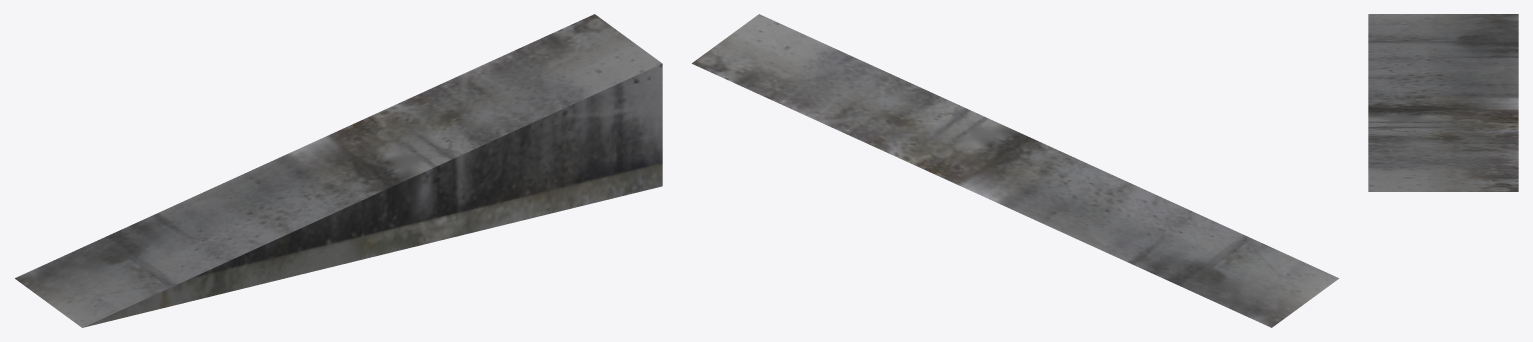
File: tunel_lodni_zed_0_z.glb
3 views of the same model, side by side, from view 1: azimuth 30°, elevation 25°; view 2: azimuth 150°, elevation 25°; view 3: azimuth 270°, elevation 25° (orthographic). The views are drawn at different scales.
Visible parts, largest first — view 1: tunel_lodni_zed_0_z; view 2: tunel_lodni_zed_0_z; view 3: tunel_lodni_zed_0_z.
Boxes of the visible parts, box(x1,y1,x2,y2) form: tunel_lodni_zed_0_z: box(15, 14, 662, 327); tunel_lodni_zed_0_z: box(692, 14, 1338, 327); tunel_lodni_zed_0_z: box(1368, 14, 1518, 191).
Size of the model in its own units: 4.95 by 1 by 1.
1 material, 1 textured.
